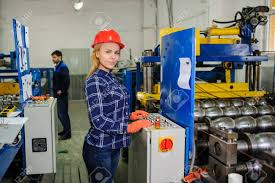Person_wearing_helmet: (88, 23, 124, 53)
